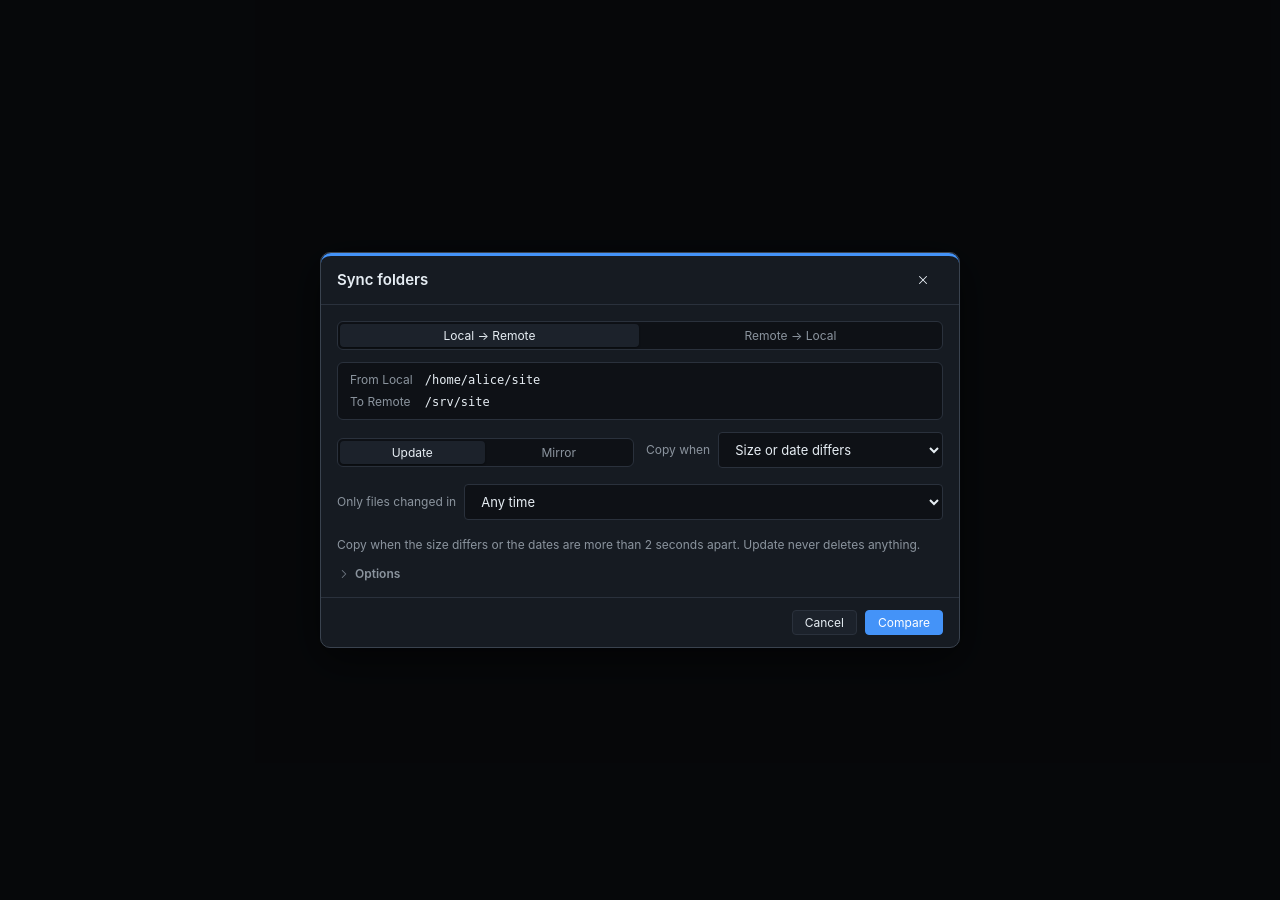
Test: SyncDialog › keeps the options behind a disclosure with their defaults
The image size is (1280, 900).
Expected: the checkbox labelled "Copy empty folders" is not shown
Click the button "Options": [369, 574] box [337,566,400,581]
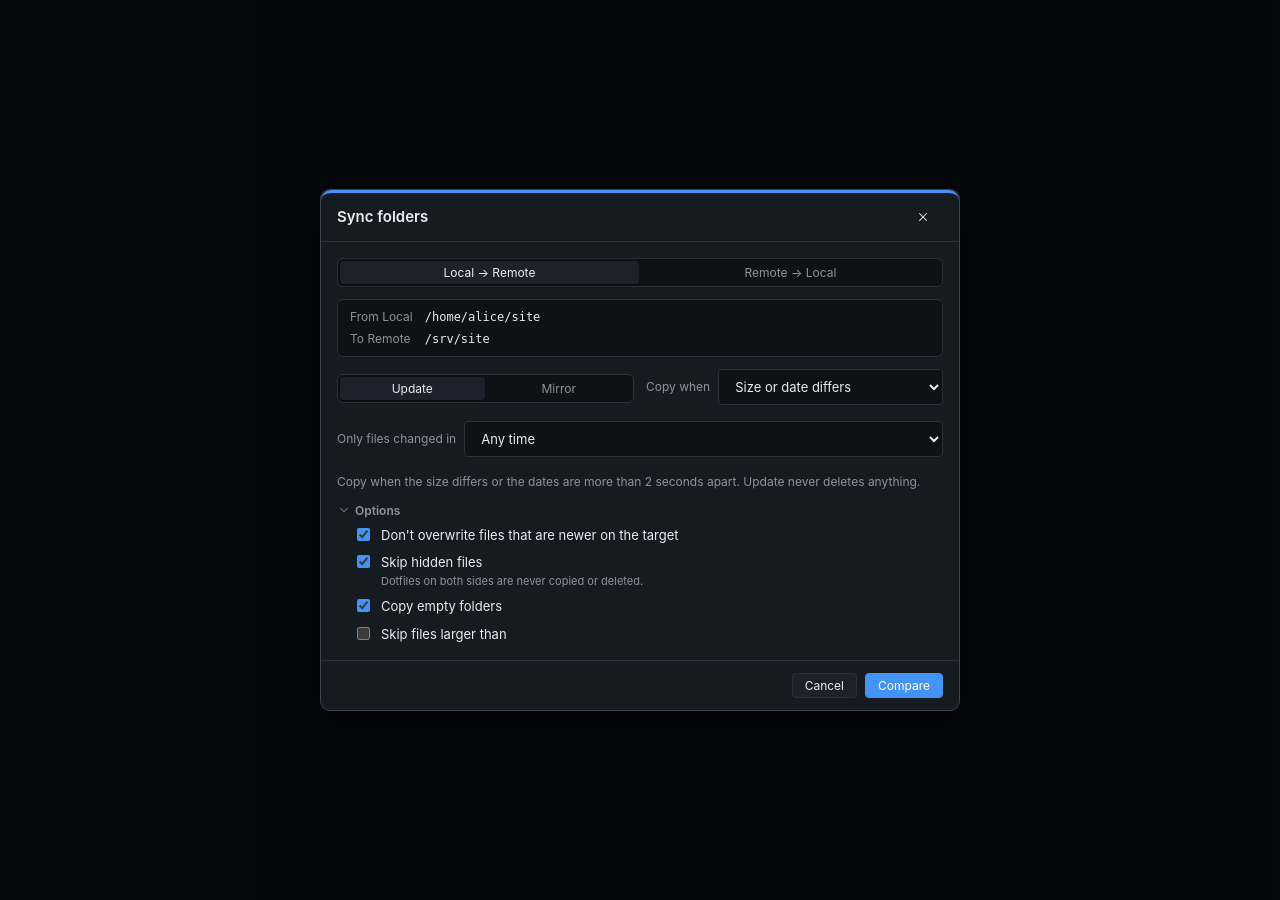
Now the button "Options" is expanded, box [337,503,400,518]
Now the checkbox labelled "Don't overwrite files that are newer on the target" is checked, box [357,528,370,541]
Now the checkbox labelled "Skip hidden files" is checked, box [357,555,370,568]
Click the checkbox labelled "Skip files larger than": [364, 633] box [357,627,370,640]
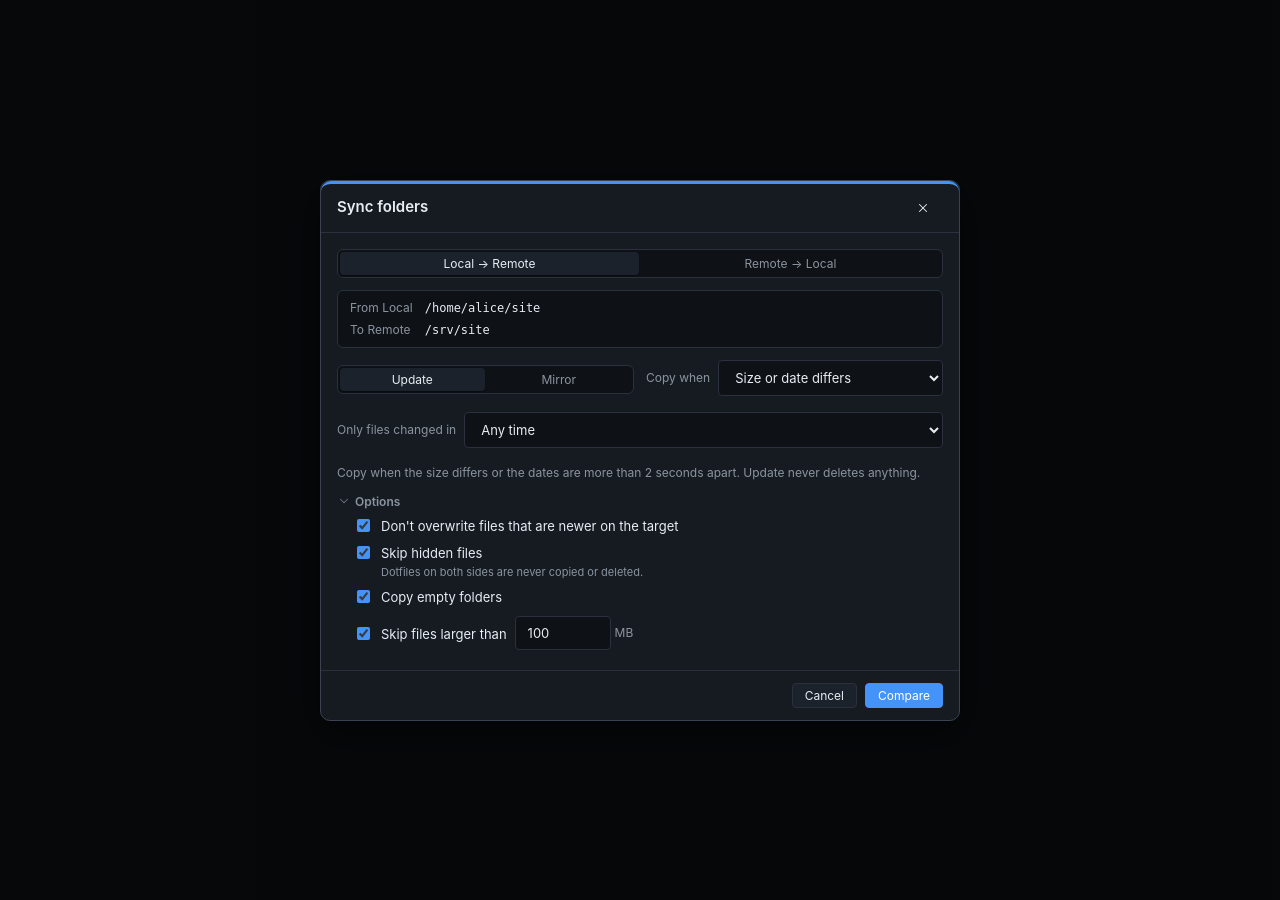
Replace the text in the number field named "Size limit in MB" with "25": [563, 632] box [515,616,611,650]
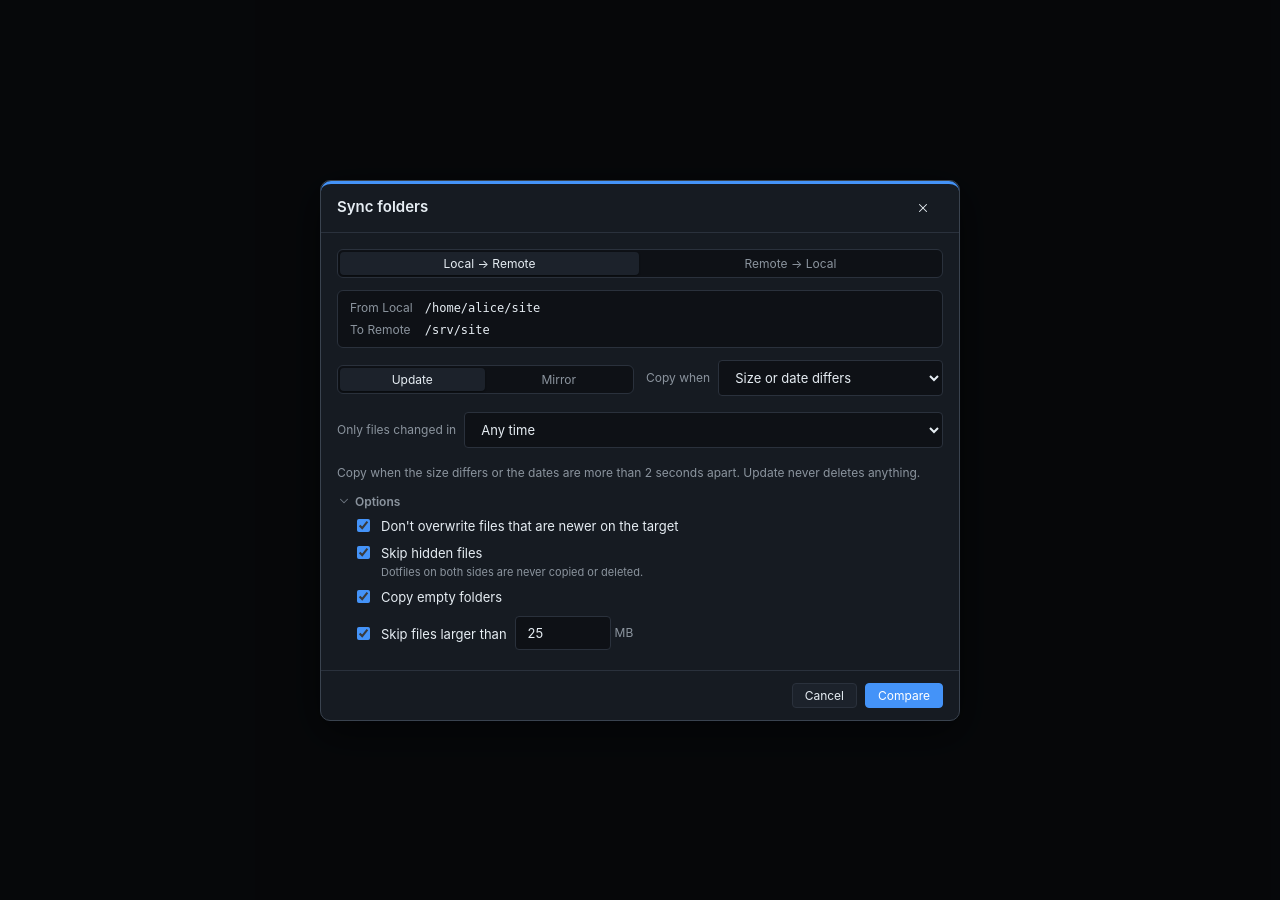
Click the checkbox labelled "Skip hidden files": [364, 552] box [357,546,370,559]
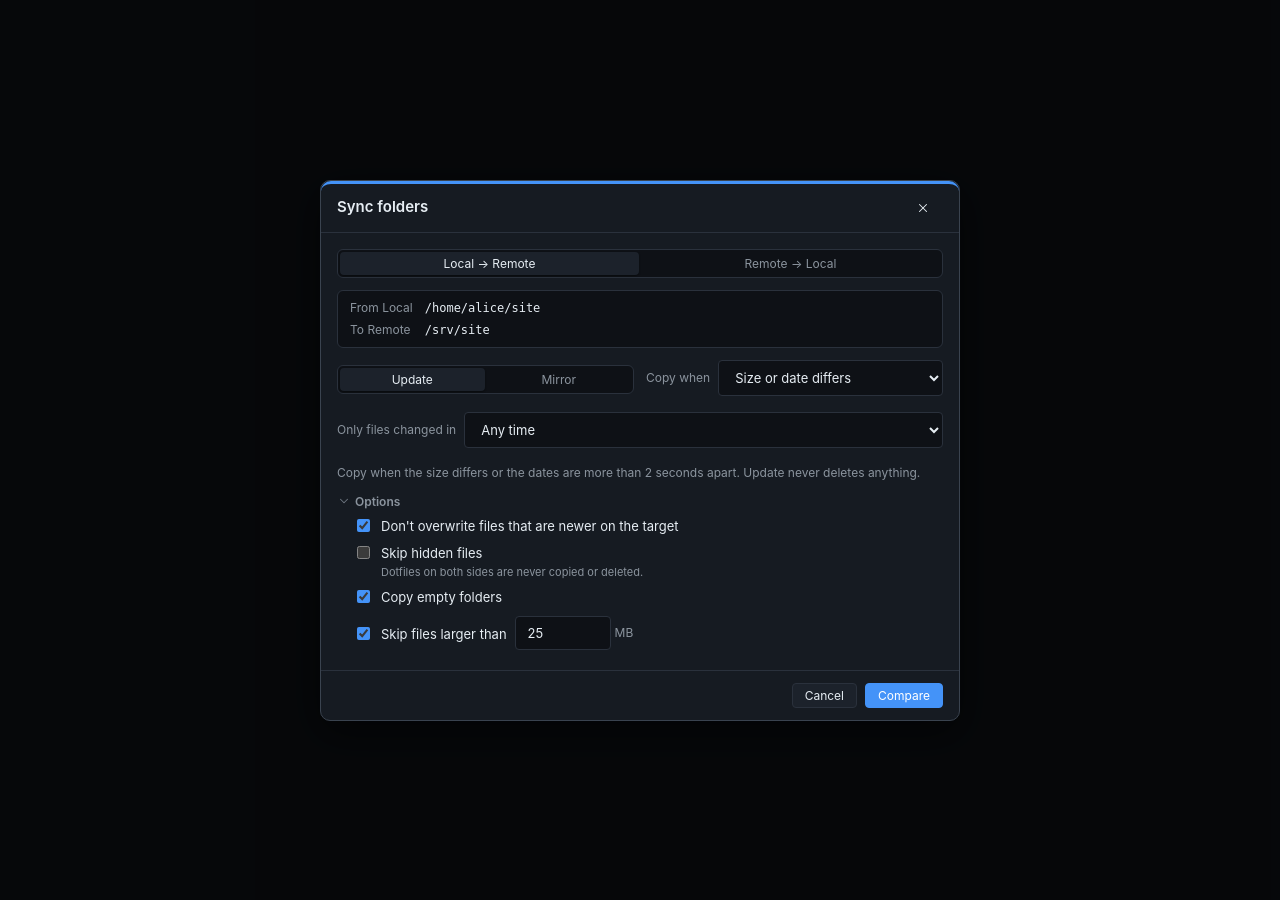
Click the button "Compare": [904, 695] box [865,682,943,708]
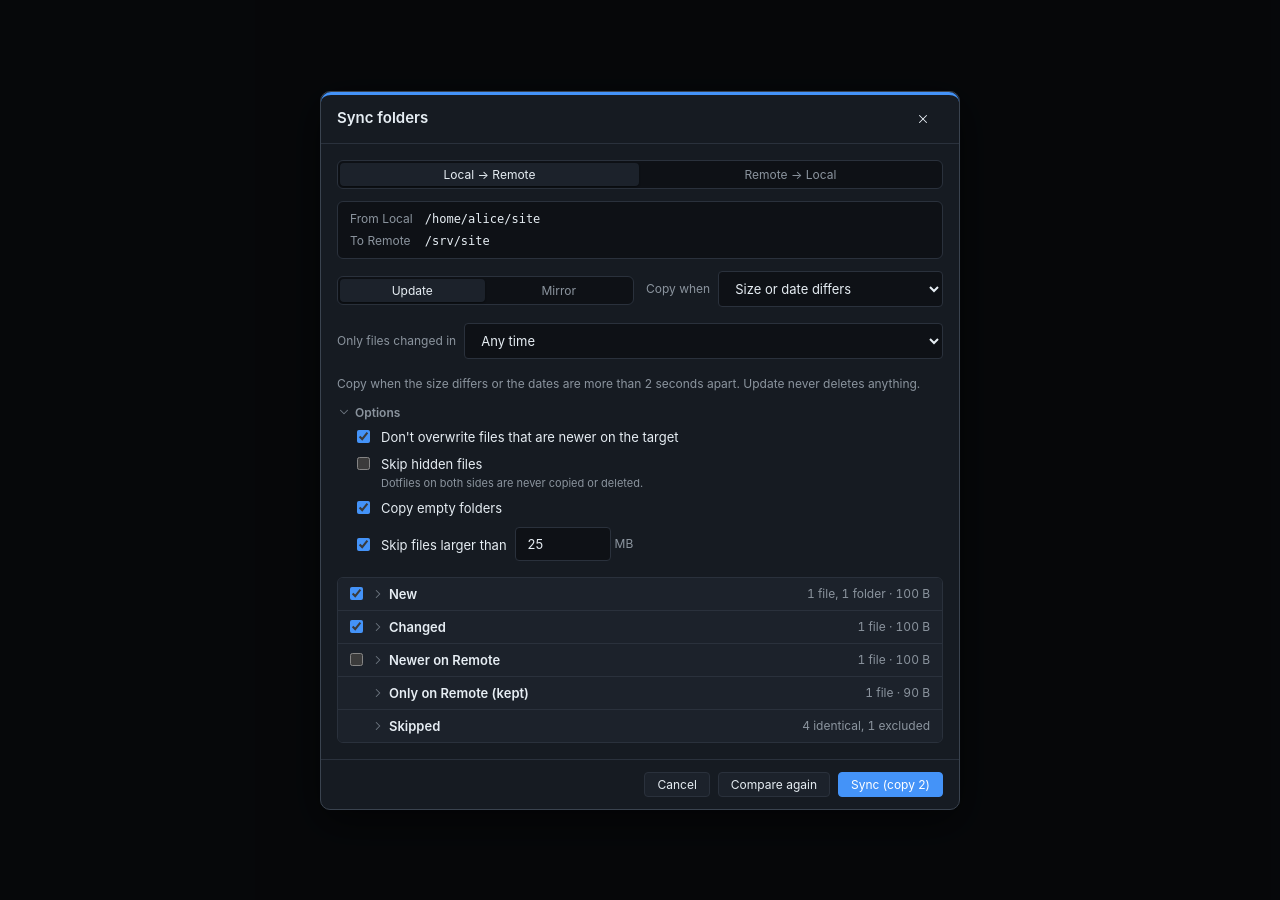
Select "Newer only" in the dropdown labelled "Copy when": [831, 288] box [718,270,943,306]
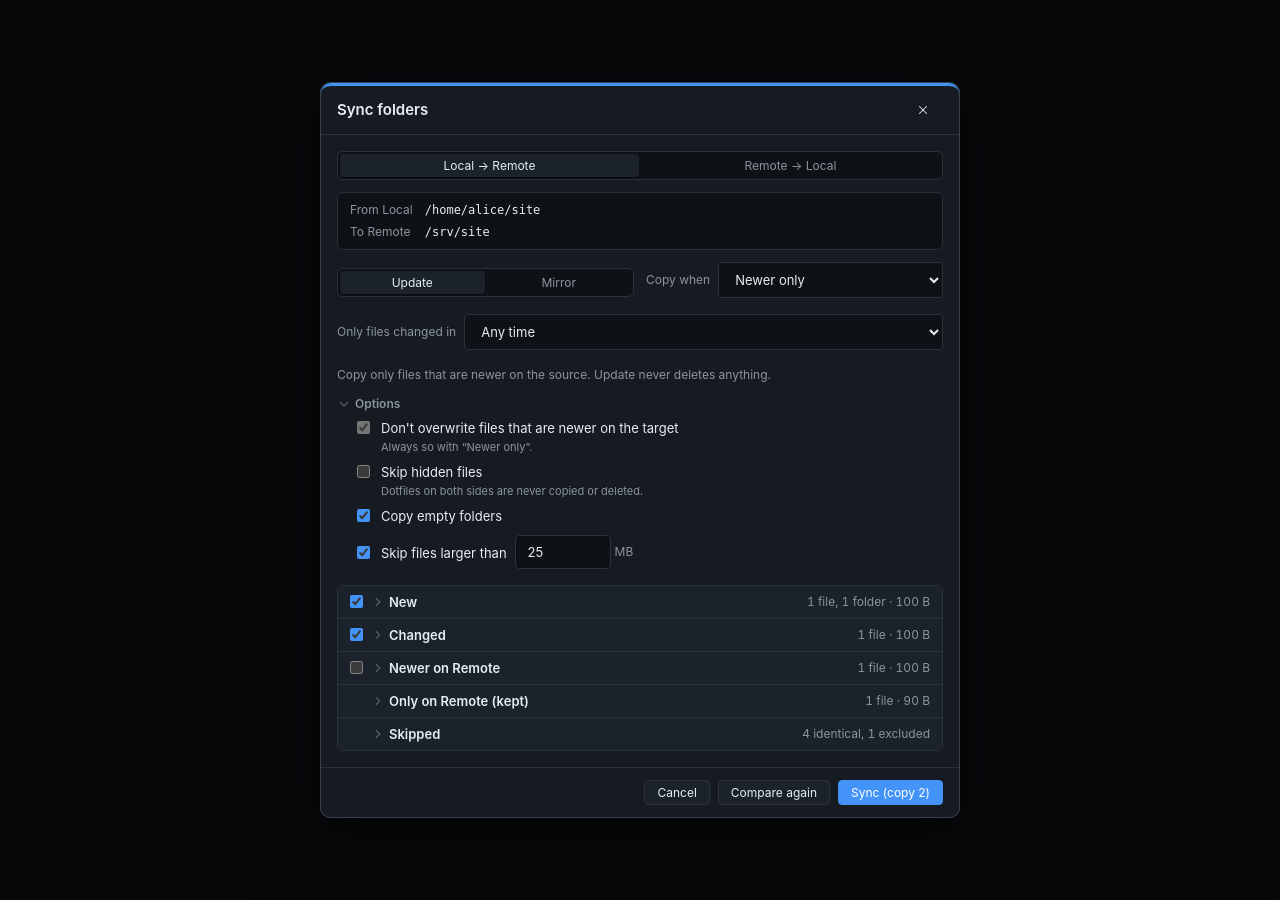
Now the checkbox labelled "Don't overwrite files" is checked, box [357,421,370,434]
Now the checkbox labelled "Don't overwrite files" is disabled, box [357,421,370,434]
